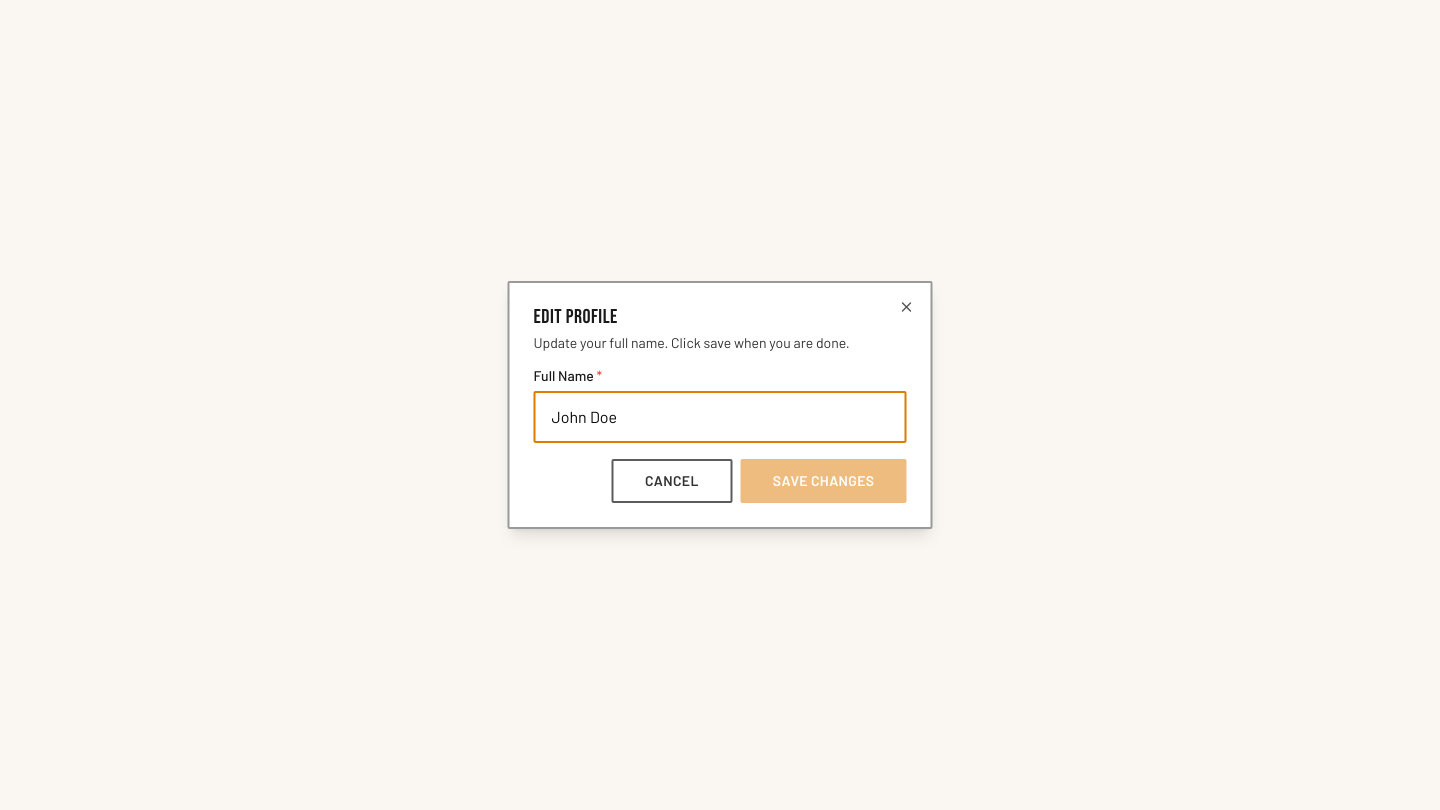
it: ProfileEditor › Submit Functionality › should show loading state during submit
Replace the text in the field labelled "Full Name *" with "Jane Smith" at (720, 417), box [534, 391, 906, 443]
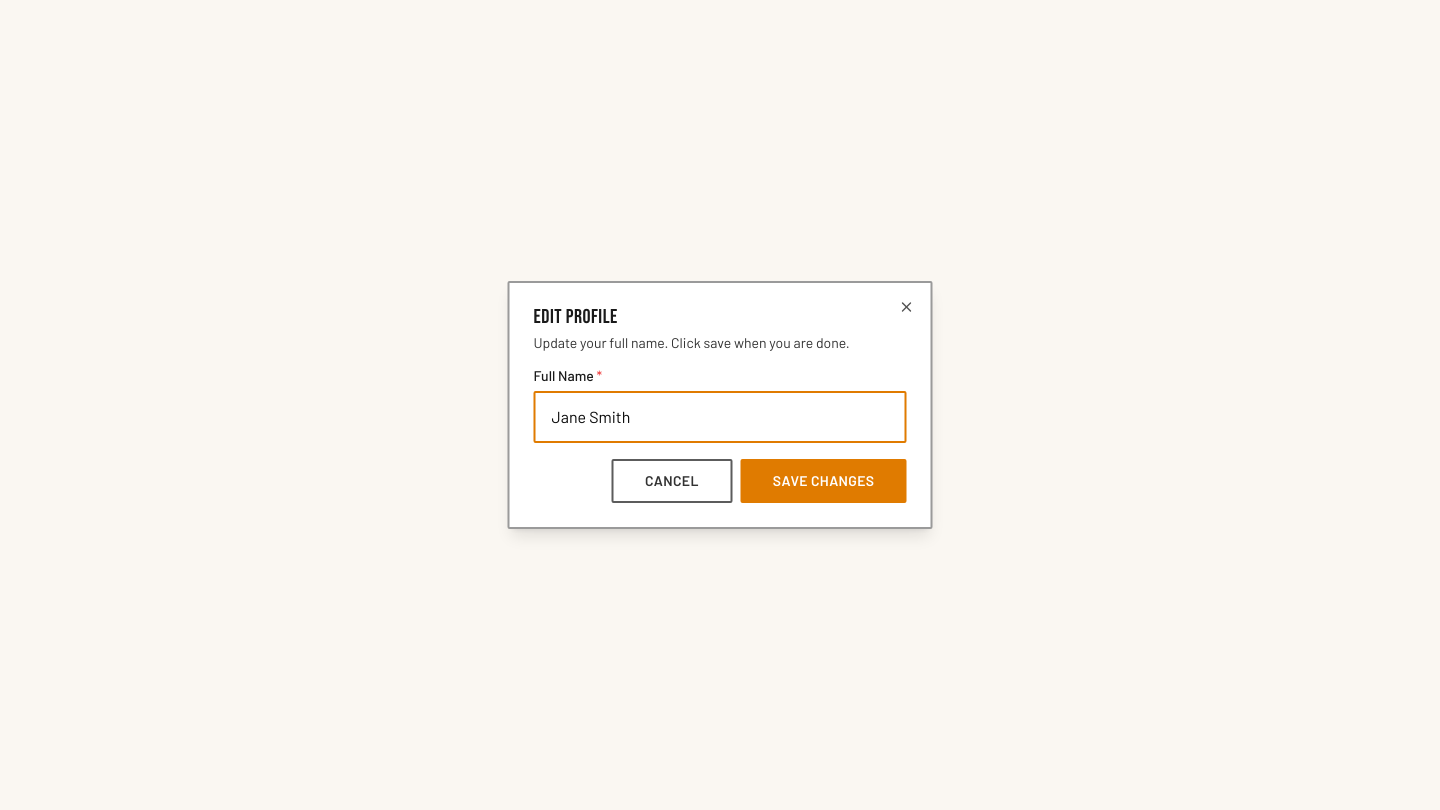
Click the button "Save changes" at (824, 481), box [741, 459, 906, 503]
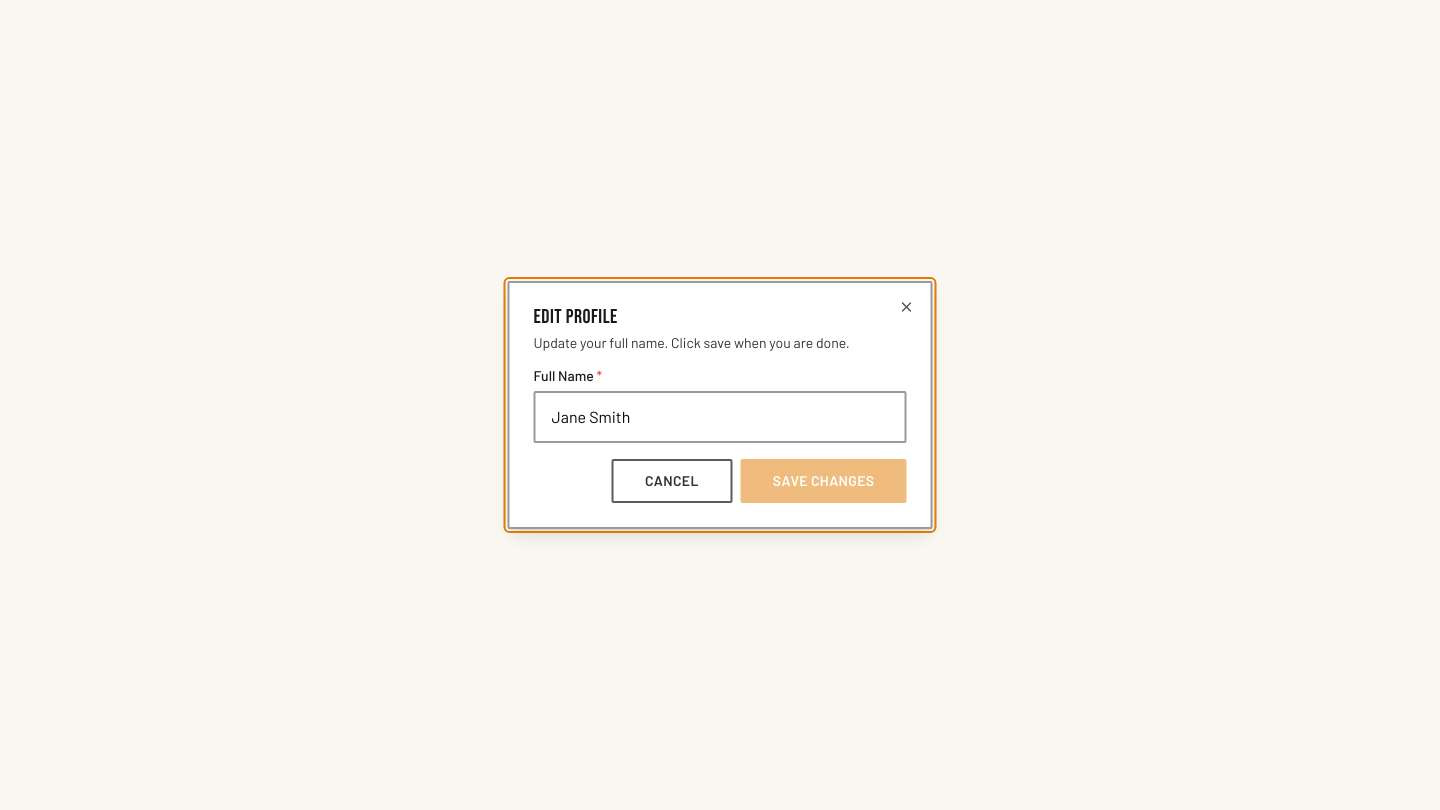
Result: the button named "Saving..." is disabled at [741, 459, 906, 503]
